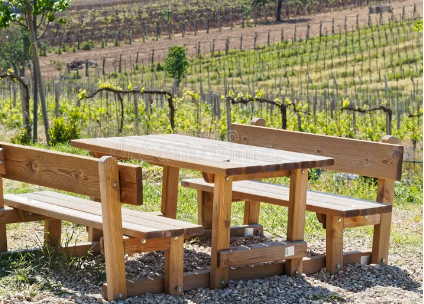obstacle: (4, 109, 405, 300)
